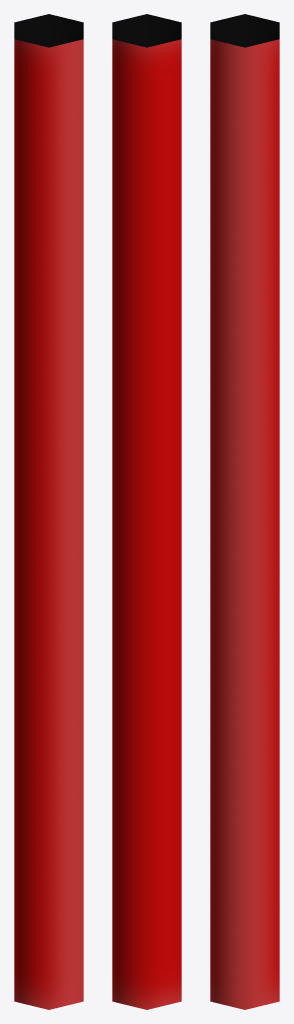
The model's file is fff_drink_slush_straw_red.FBX.
The picture shows the model from 3 angles, left to right: view 1: azimuth 30°, elevation 25°; view 2: azimuth 150°, elevation 25°; view 3: azimuth 330°, elevation 25°; orthographic projection.
Visible parts, largest first — view 1: fff_drink_slush_straw_red; view 2: fff_drink_slush_straw_red; view 3: fff_drink_slush_straw_red.
Boxes of the visible parts, x1=… form: fff_drink_slush_straw_red: x1=14, y1=14, x2=83, y2=1009; fff_drink_slush_straw_red: x1=112, y1=14, x2=181, y2=1009; fff_drink_slush_straw_red: x1=210, y1=14, x2=279, y2=1009.
Size of the model in its own units: 0.5954 by 7.93 by 0.5156.
